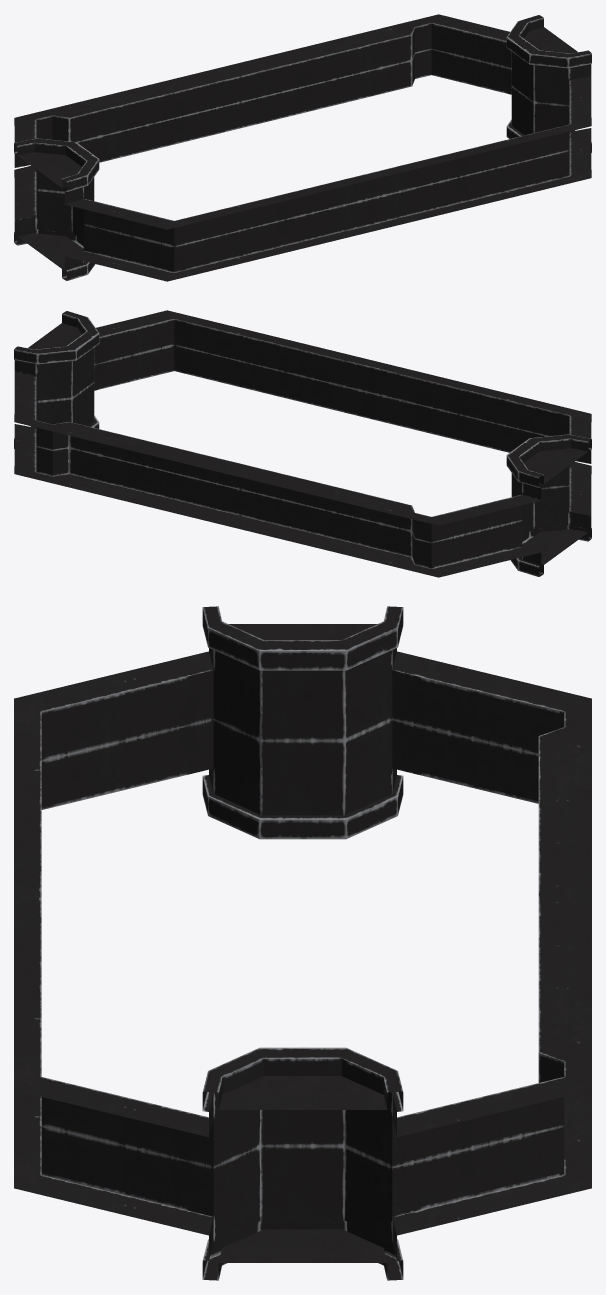
File: Corridor_column_1.FBX
3 views of the same model, one above another, from view 1: azimuth 30°, elevation 25°; view 2: azimuth 150°, elevation 25°; view 3: azimuth 270°, elevation 25° (orthographic). The views are drawn at different scales.
Visible parts, largest first — view 1: Corridor_column_1; view 2: Corridor_column_1; view 3: Corridor_column_1.
Part boxes in pixels (box(x1,y1,x2,y2)): Corridor_column_1: box(14, 14, 591, 281); Corridor_column_1: box(14, 310, 591, 577); Corridor_column_1: box(14, 606, 591, 1280).
Bounding box in the file's own units: 6.39 × 1.15 × 3.21.
Materials: 1 (1 with a texture image).
